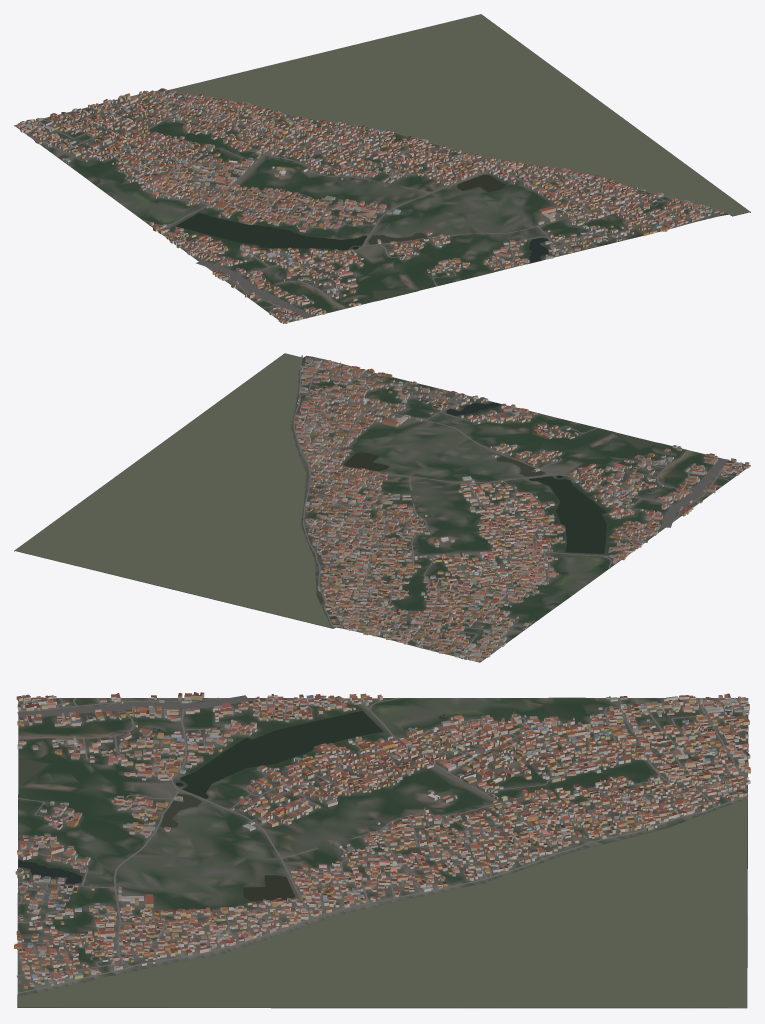
3 views of the same model, one above another, from view 1: azimuth 30°, elevation 25°; view 2: azimuth 150°, elevation 25°; view 3: azimuth 270°, elevation 25° (orthographic). The views are drawn at different scales.
Parts seen in each view (by area): view 1: water, ground, buildings, roads; view 2: ground, water, buildings, roads; view 3: ground, water, buildings, roads.
Part boxes in pixels (x1=…): water: x1=151, y1=14, x2=749, y2=299; ground: x1=14, y1=16, x2=750, y2=323; buildings: x1=17, y1=88, x2=723, y2=323; roads: x1=19, y1=91, x2=732, y2=321; ground: x1=14, y1=354, x2=750, y2=662; water: x1=15, y1=353, x2=655, y2=627; buildings: x1=294, y1=357, x2=750, y2=661; roads: x1=293, y1=355, x2=742, y2=659; ground: x1=17, y1=697, x2=748, y2=1008; water: x1=18, y1=711, x2=747, y2=1007; buildings: x1=14, y1=692, x2=750, y2=988; roads: x1=17, y1=695, x2=748, y2=993.
Size of the model in its own units: 1412 by 22.17 by 1415.
